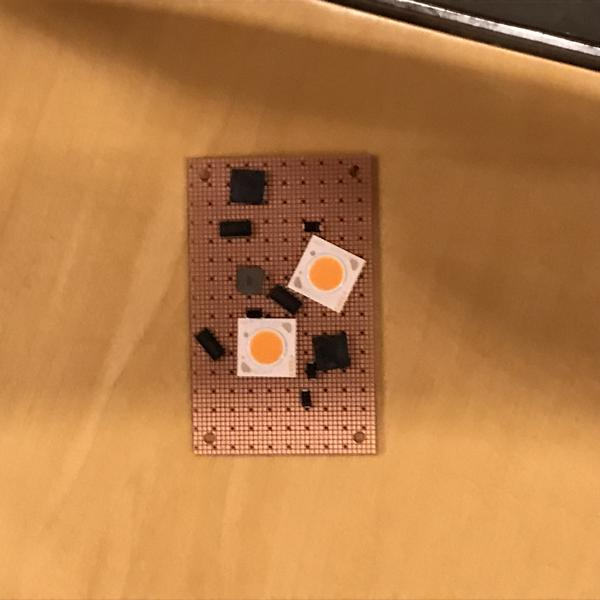board: (184, 151, 381, 457)
